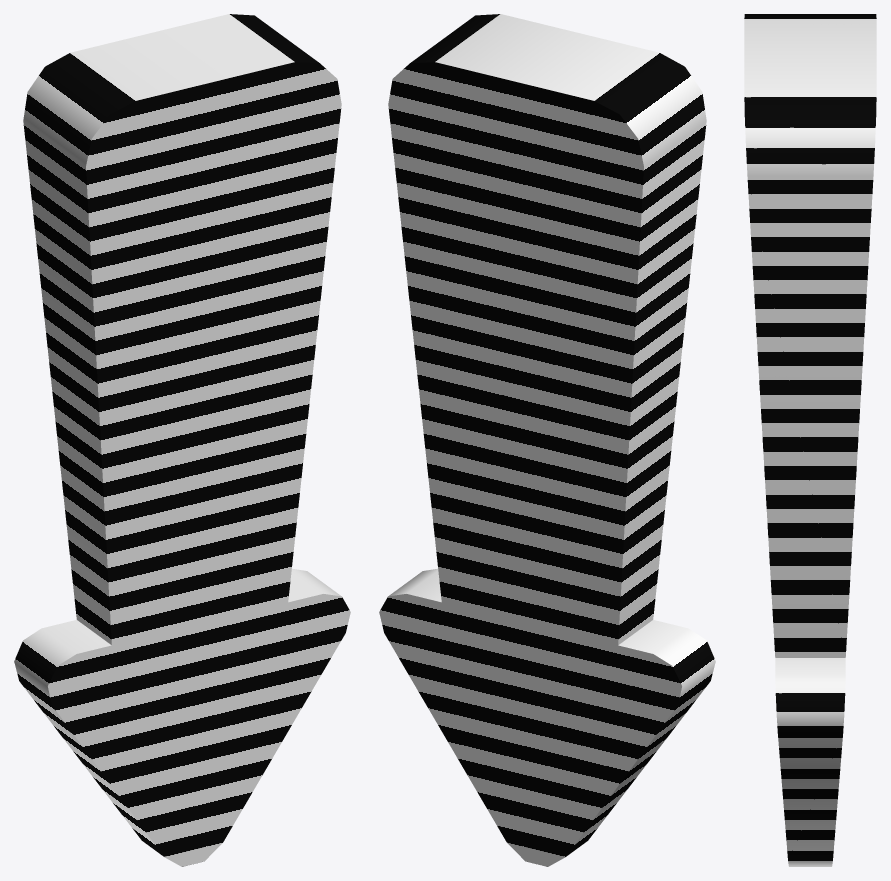
The model's file is arrow.fbx.
3 views of the same model, side by side, from view 1: azimuth 30°, elevation 25°; view 2: azimuth 150°, elevation 25°; view 3: azimuth 270°, elevation 25° (orthographic).
Parts seen in each view (by area): view 1: polySurface1; view 2: polySurface1; view 3: polySurface1.
Part boxes in pixels (x1,y1,x2,y2): polySurface1: (14,14,350,866); polySurface1: (379,14,715,866); polySurface1: (744,14,876,866).
Bounding box in the file's own units: 0.8807 × 2.22 × 0.3308.
